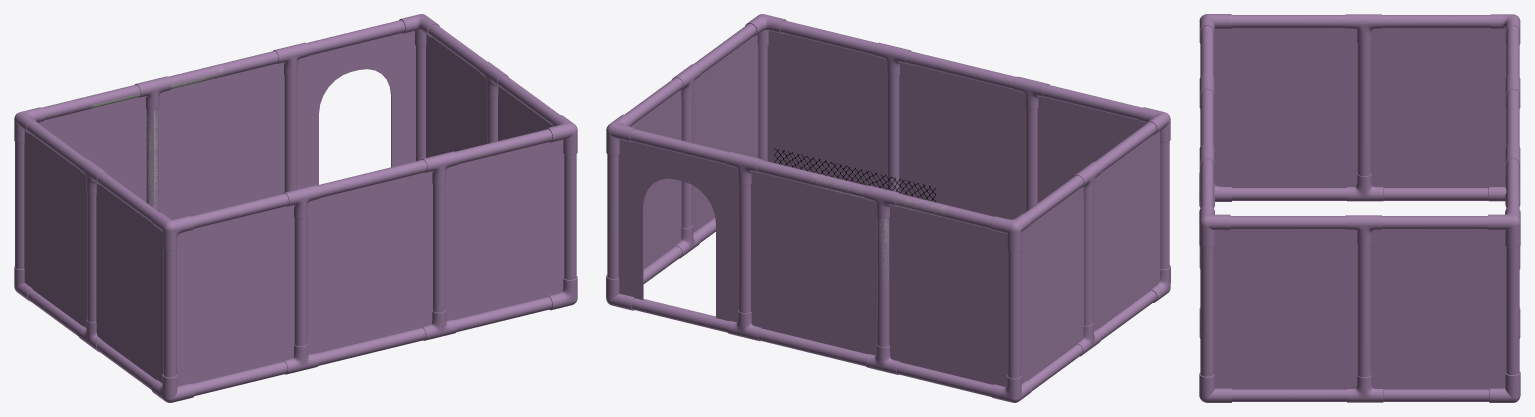
File: BabyCage5.fbx
The picture shows the model from 3 angles, left to right: view 1: azimuth 30°, elevation 25°; view 2: azimuth 150°, elevation 25°; view 3: azimuth 270°, elevation 25°; orthographic projection. The views are drawn at different scales.
Visible parts, largest first — view 1: polySurface34, pPlane9, pPlane10, pPlane8, pPlane6, pPlane11, pPlane12, pCube2, pPlane7, pPlane13, pPlane14, polySurface35 (+14 smaller); view 2: polySurface34, pPlane6, pPlane7, pPlane9, pPlane10, pPlane11, pCube2, pPlane12, pPlane14, pPlane8, pPlane13, pPlane3 (+15 smaller); view 3: polySurface34, pPlane14, pPlane11, pPlane13, pPlane12, polySurface61, polySurface60, polySurface47, polySurface50, polySurface49, polySurface48, polySurface62 (+9 smaller).
Part boxes in pixels (x1=…): polySurface34: x1=15, y1=20, x2=576, y2=395; pPlane9: x1=307, y1=171, x2=432, y2=354; pPlane10: x1=445, y1=140, x2=564, y2=320; pPlane8: x1=176, y1=205, x2=294, y2=386; pPlane6: x1=158, y1=62, x2=284, y2=219; pPlane11: x1=96, y1=183, x2=163, y2=382; pPlane12: x1=24, y1=131, x2=86, y2=327; pCube2: x1=296, y1=31, x2=415, y2=189; pPlane7: x1=38, y1=96, x2=146, y2=202; pPlane13: x1=426, y1=34, x2=487, y2=157; pPlane14: x1=498, y1=87, x2=552, y2=140; polySurface35: x1=91, y1=65, x2=223, y2=211; polySurface34: x1=607, y1=20, x2=1169, y2=396; pPlane6: x1=751, y1=171, x2=876, y2=355; pPlane7: x1=889, y1=205, x2=1007, y2=386; pPlane9: x1=899, y1=63, x2=1025, y2=219; pPlane10: x1=767, y1=31, x2=887, y2=189; pPlane11: x1=1093, y1=131, x2=1160, y2=331; pCube2: x1=618, y1=139, x2=738, y2=322; pPlane12: x1=1021, y1=187, x2=1083, y2=383; pPlane14: x1=692, y1=34, x2=758, y2=232; pPlane8: x1=1037, y1=96, x2=1145, y2=202; pPlane13: x1=631, y1=90, x2=681, y2=268; pPlane3: x1=774, y1=148, x2=935, y2=202; polySurface34: x1=1200, y1=15, x2=1519, y2=401; pPlane14: x1=1213, y1=229, x2=1357, y2=389; pPlane11: x1=1214, y1=28, x2=1357, y2=187; pPlane13: x1=1371, y1=229, x2=1506, y2=389; pPlane12: x1=1371, y1=28, x2=1506, y2=187; polySurface61: x1=1488, y1=205, x2=1520, y2=248; polySurface60: x1=1199, y1=205, x2=1230, y2=248; polySurface47: x1=1345, y1=215, x2=1381, y2=245; polySurface50: x1=1345, y1=14, x2=1381, y2=44; polySurface49: x1=1347, y1=173, x2=1383, y2=201; polySurface48: x1=1347, y1=375, x2=1383, y2=402; polySurface62: x1=1489, y1=371, x2=1520, y2=402.
Bounding box in the file's own units: 72.34 × 30.33 × 47.31.
